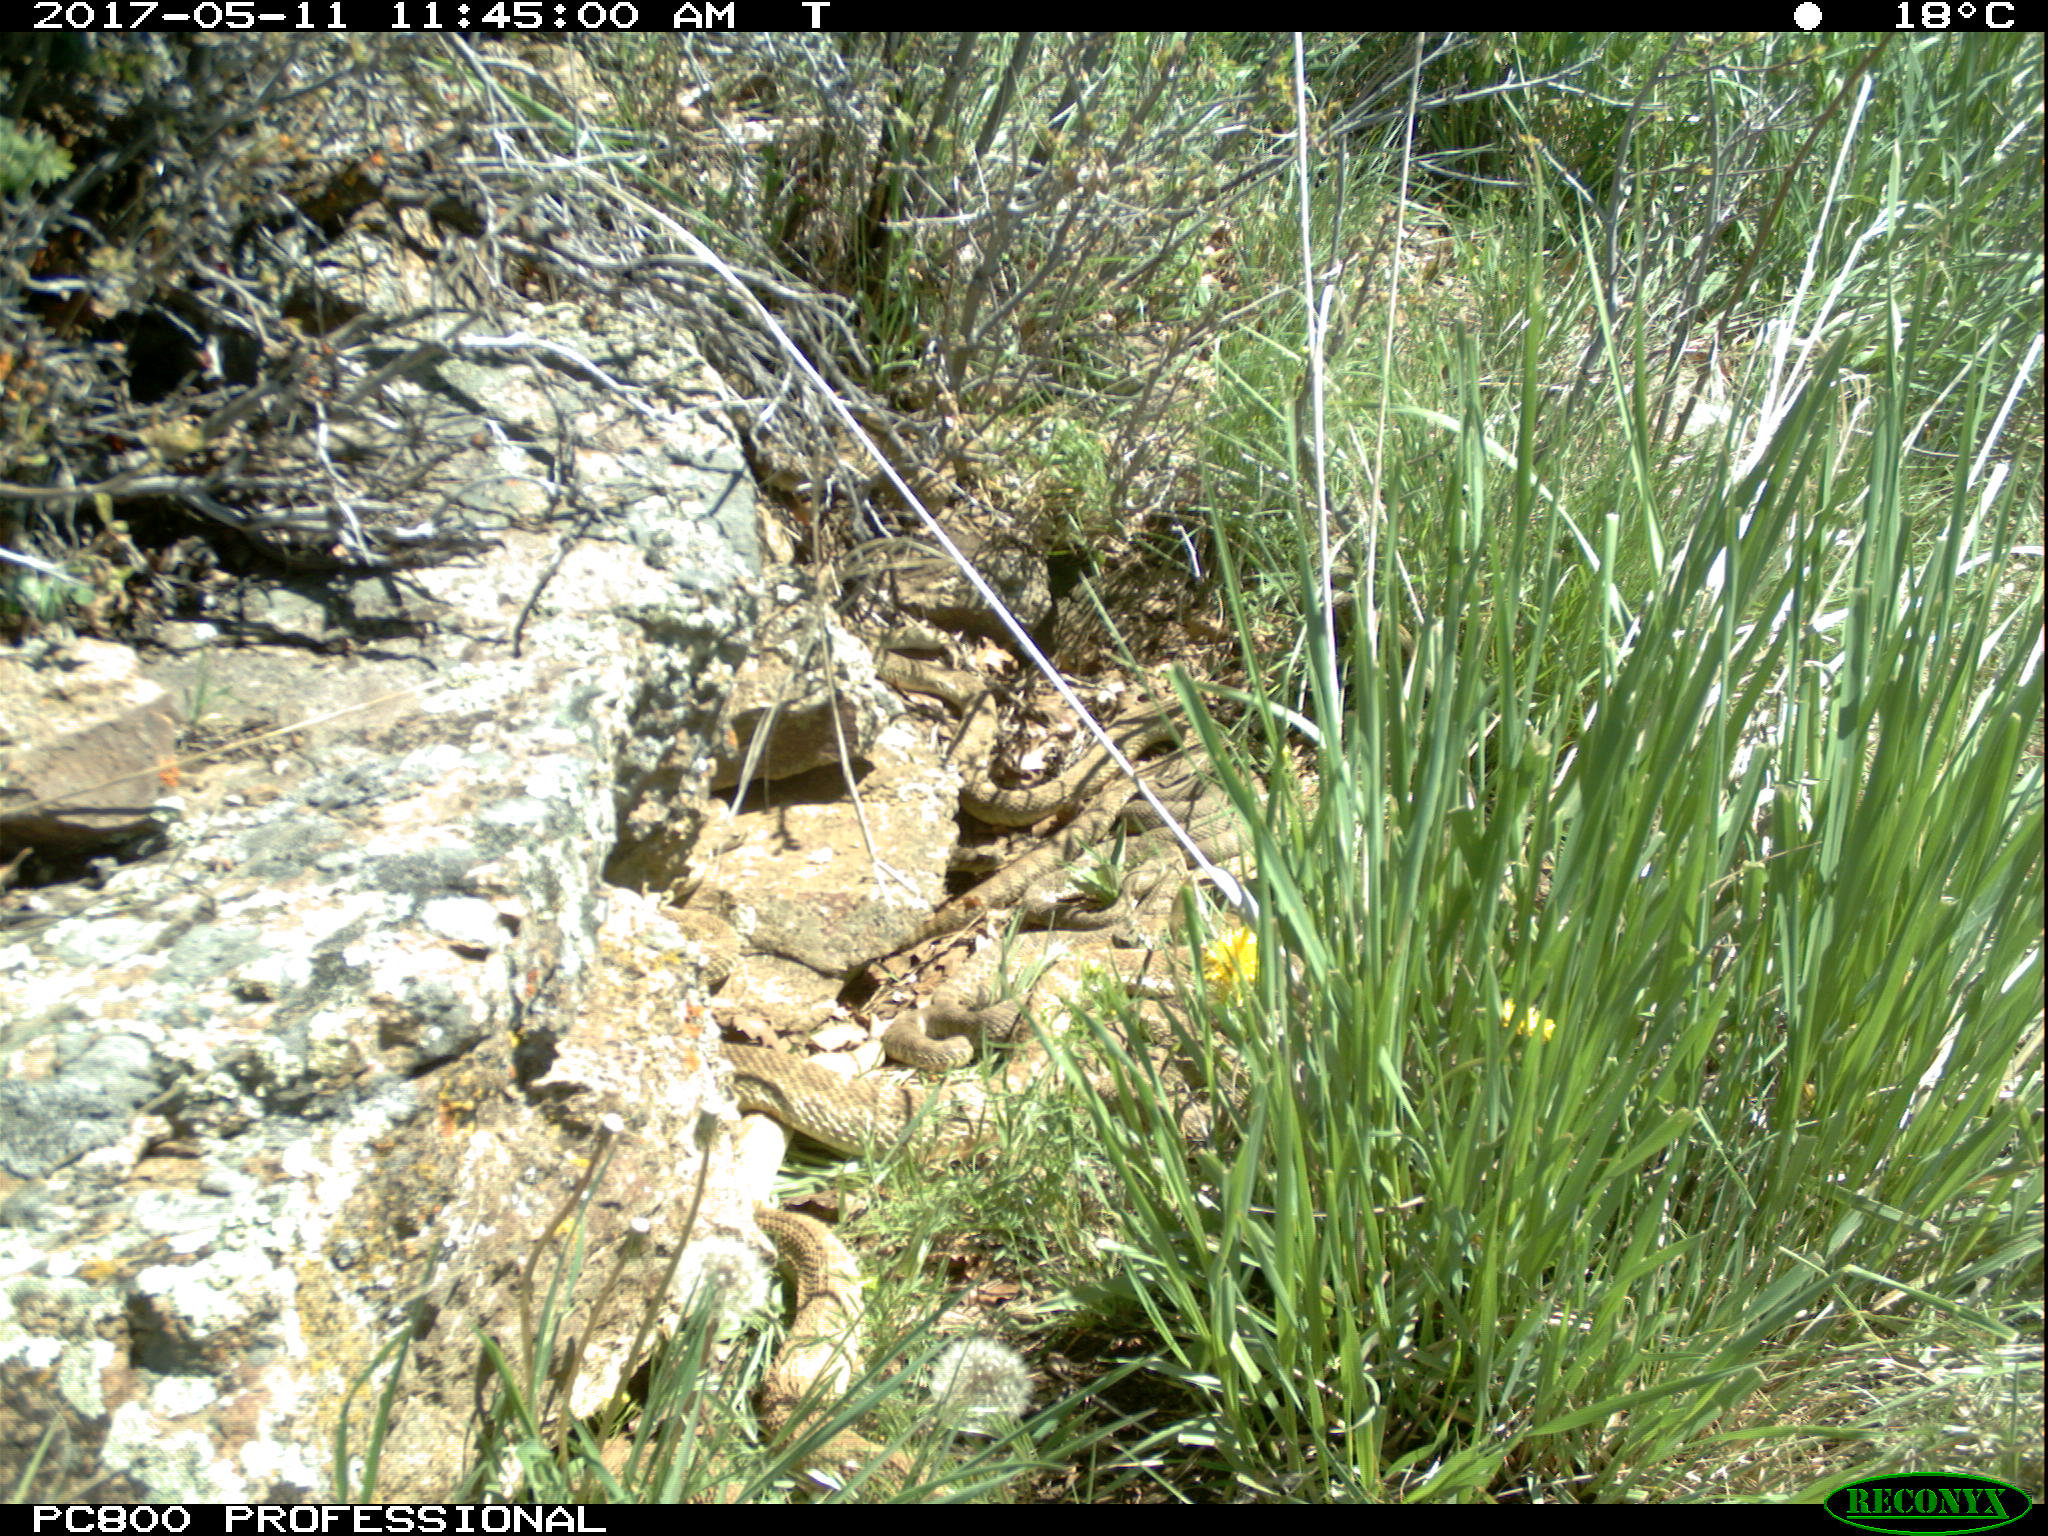snake: (876, 649, 1211, 836), (750, 1204, 935, 1502), (721, 1039, 1051, 1158), (876, 936, 1197, 1057), (927, 839, 1218, 928)
